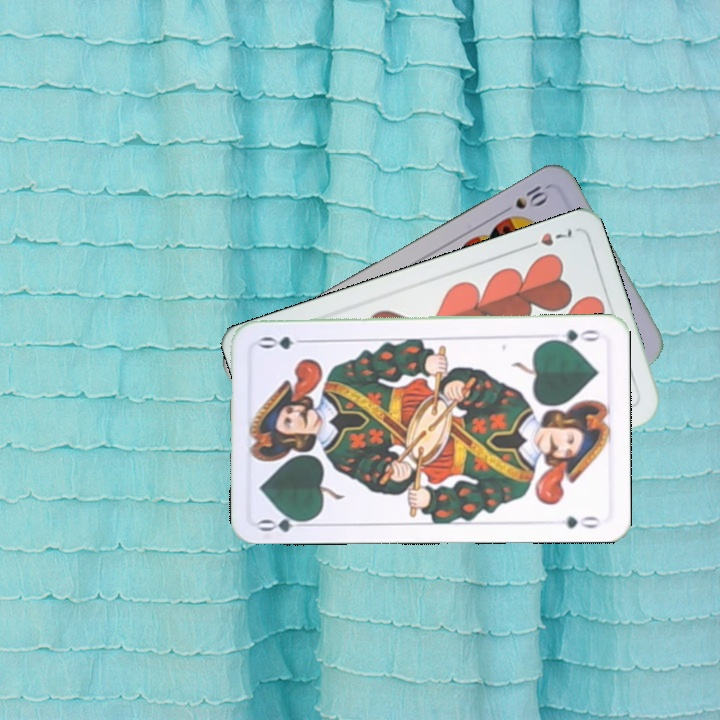GO: (255, 509, 314, 535), (544, 325, 603, 348)
H7: (520, 223, 577, 252)
S10: (496, 181, 552, 217)
